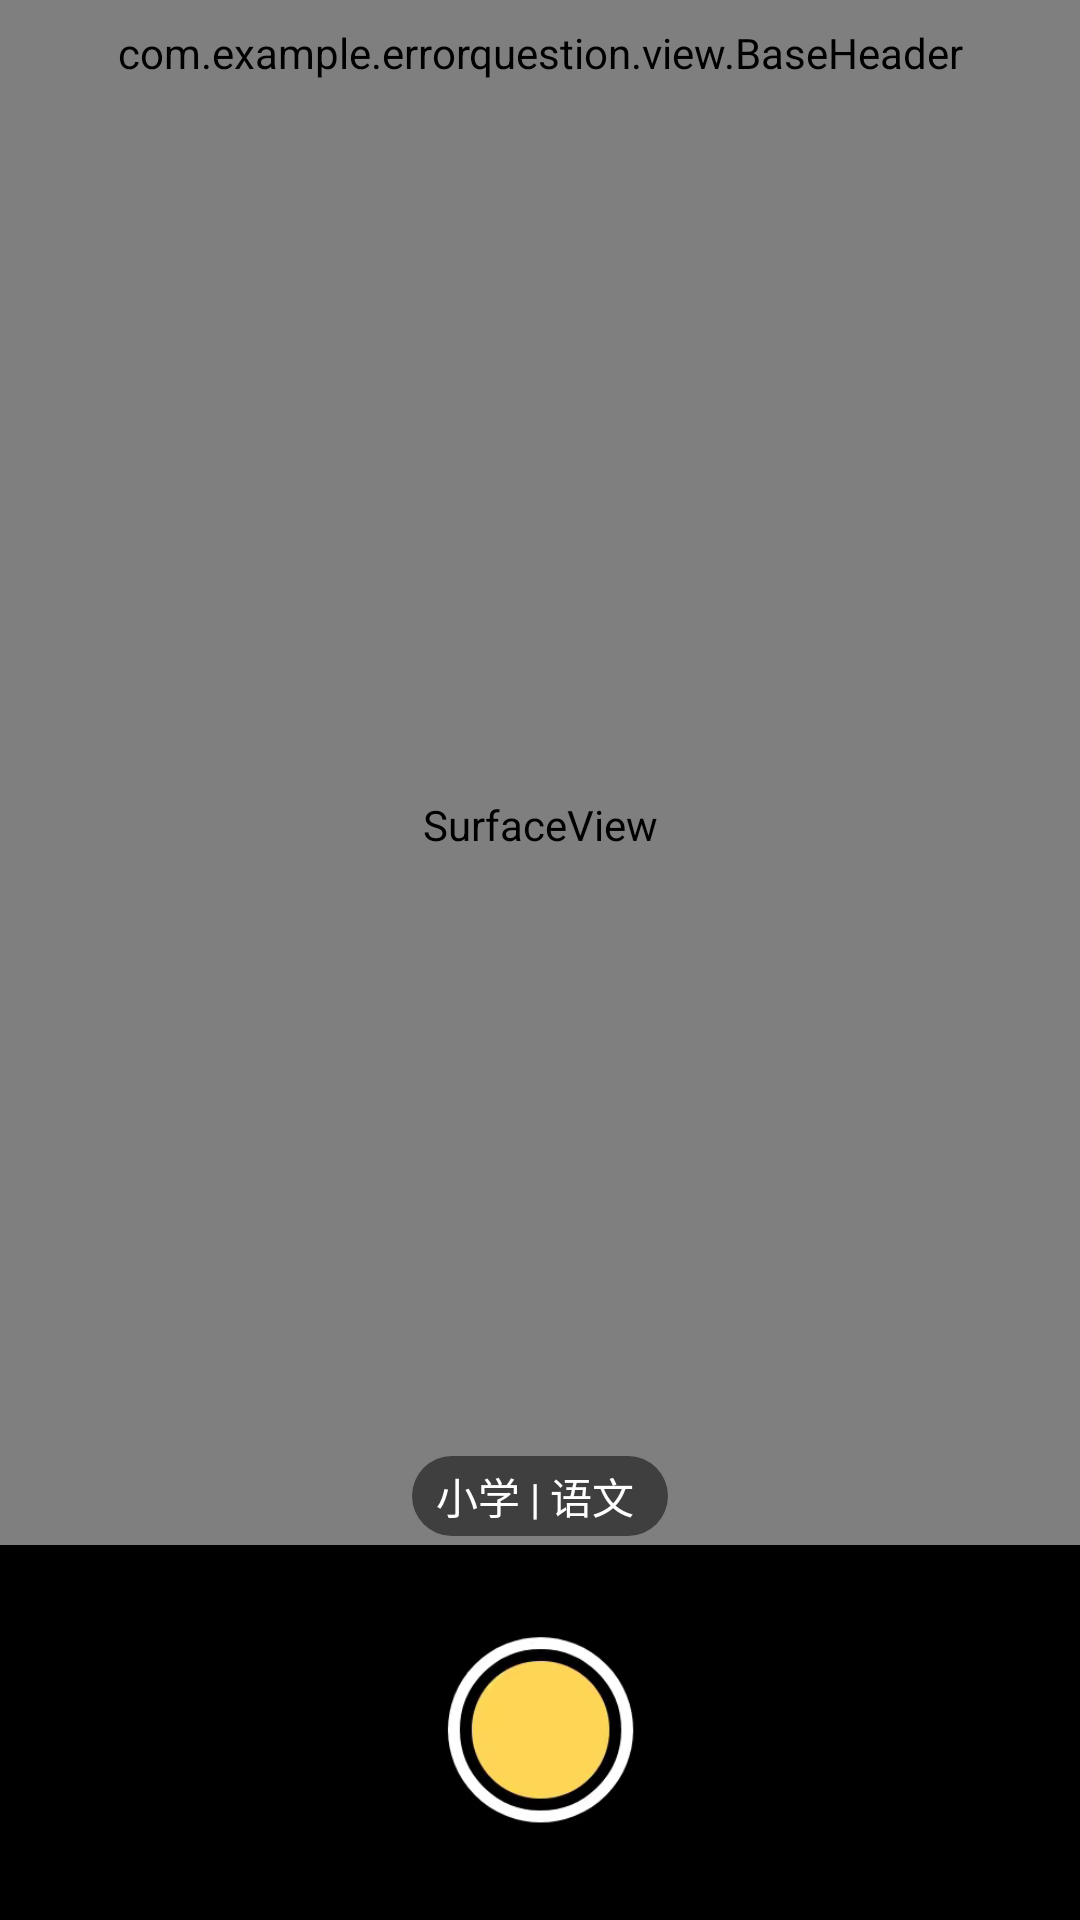

Where to tap for icons on this 1080 x 1920 app screen, as point (x, y):
takepgoto: point (541, 1730)
